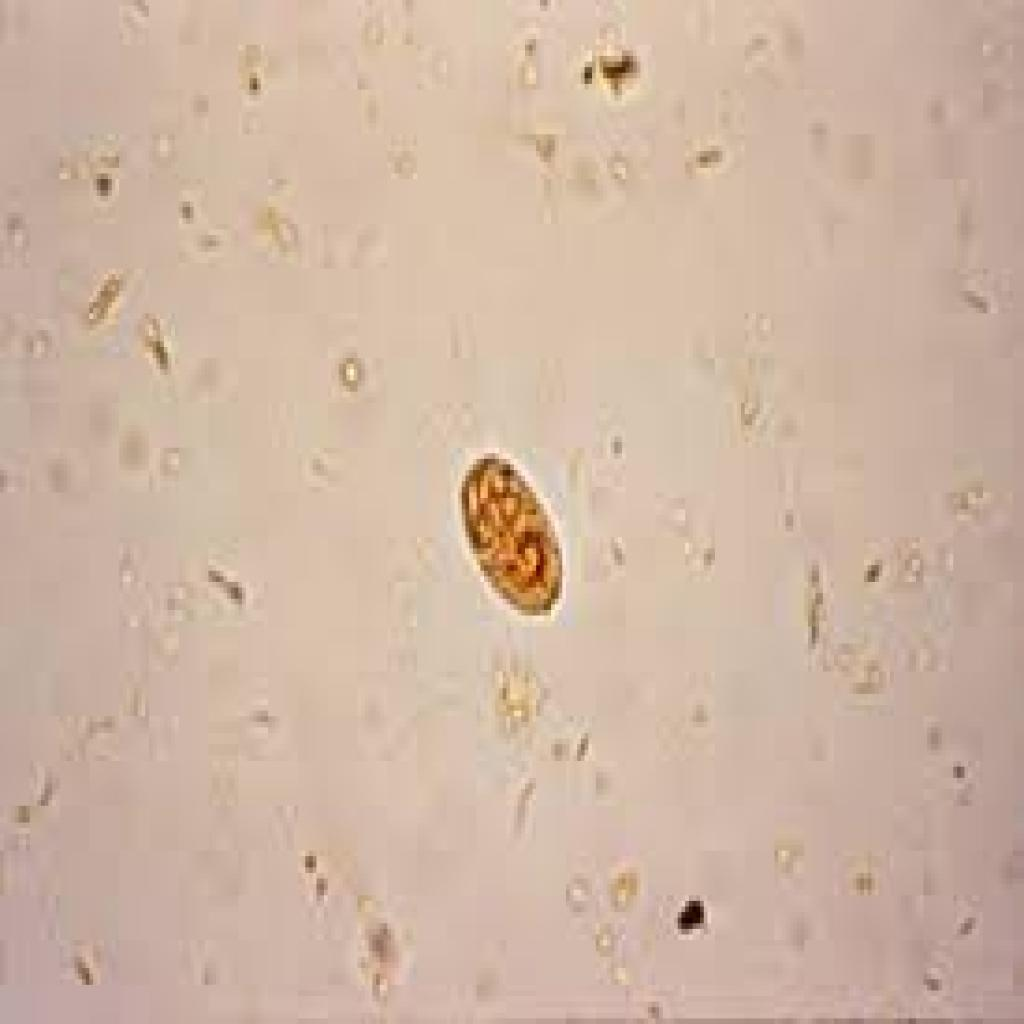Giardia: (458, 442, 570, 621)
